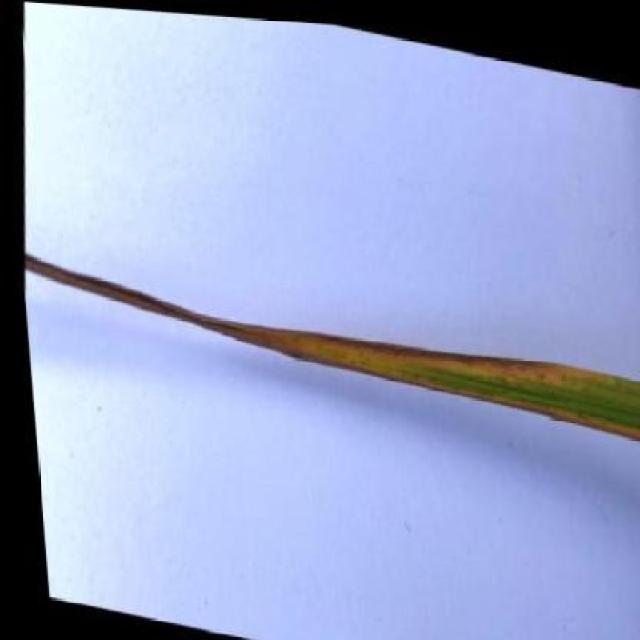Rice False Smut: (20, 255, 640, 433)
